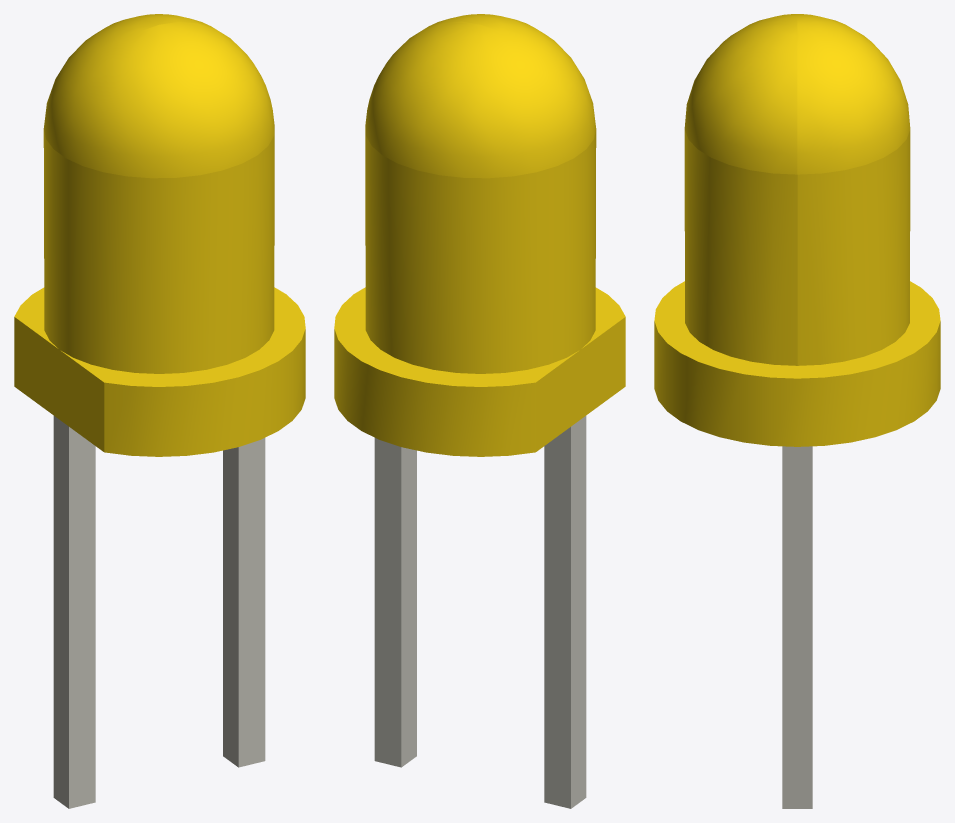
Rendered from kc-led_d3.0mm_yellow.glb.
The picture shows the model from 3 angles, left to right: view 1: azimuth 30°, elevation 25°; view 2: azimuth 150°, elevation 25°; view 3: azimuth 270°, elevation 25°; orthographic projection. The views are drawn at different scales.
Visible parts, largest first — view 1: 0.9166666666666666_0.6666666666666666_0_0, 0.6666666666666666_0.6666666666666666_0.5833333333333334_0.8; view 2: 0.9166666666666666_0.6666666666666666_0_0, 0.6666666666666666_0.6666666666666666_0.5833333333333334_0.8; view 3: 0.9166666666666666_0.6666666666666666_0_0, 0.6666666666666666_0.6666666666666666_0.5833333333333334_0.8.
Boxes of the visible parts, x1,y1,x2,y2 form: 0.9166666666666666_0.6666666666666666_0_0: (14,14,305,456); 0.6666666666666666_0.6666666666666666_0.5833333333333334_0.8: (53,416,265,808); 0.9166666666666666_0.6666666666666666_0_0: (334,14,625,456); 0.6666666666666666_0.6666666666666666_0.5833333333333334_0.8: (374,416,586,808); 0.9166666666666666_0.6666666666666666_0_0: (654,14,940,446); 0.6666666666666666_0.6666666666666666_0.5833333333333334_0.8: (782,446,812,808).
Bounding box in the file's own units: 0.34 × 1.08 × 0.3796.
